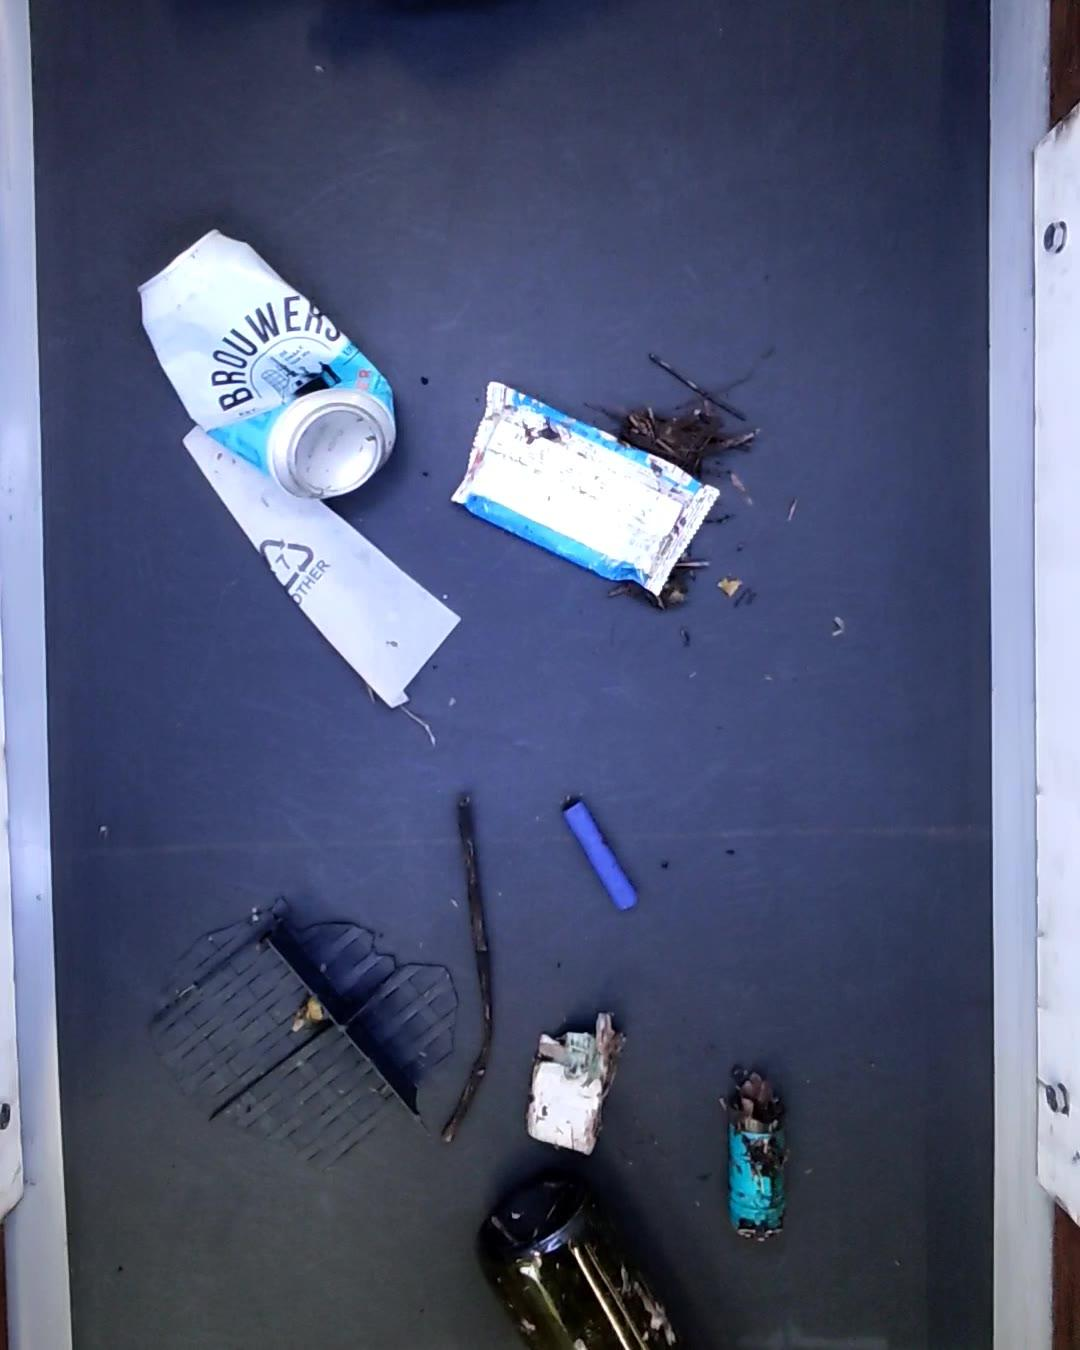Drankblikjes: (128, 222, 406, 501)
Snoep snack en chips verpakkingen: (449, 384, 721, 597)
